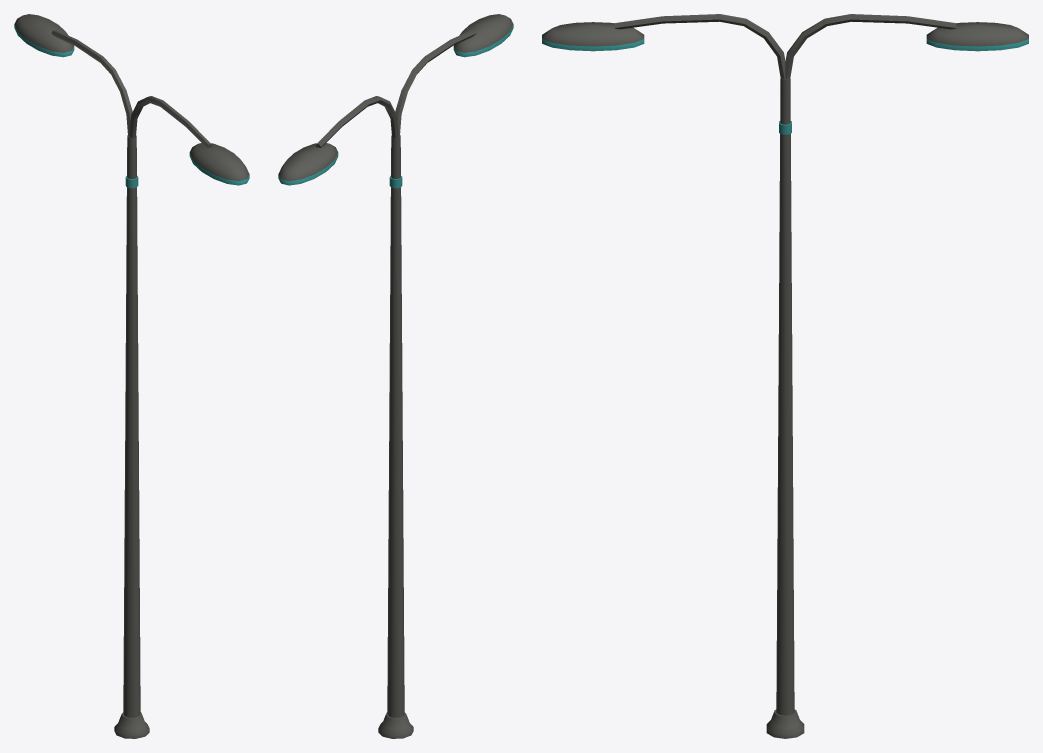
The model's file is street_lamp_double.glb.
3 renders of one model, left to right at view 1: azimuth 30°, elevation 25°; view 2: azimuth 150°, elevation 25°; view 3: azimuth 270°, elevation 25°, orthographic. The views are drawn at different scales.
Visible parts, largest first — view 1: street_lamp_double; view 2: street_lamp_double; view 3: street_lamp_double.
Boxes of the visible parts, x1=… form: street_lamp_double: x1=14, y1=14, x2=249, y2=738; street_lamp_double: x1=278, y1=14, x2=513, y2=738; street_lamp_double: x1=542, y1=14, x2=1028, y2=738.
Bounding box in the file's own units: 0.0325 × 0.5649 × 0.3481.
